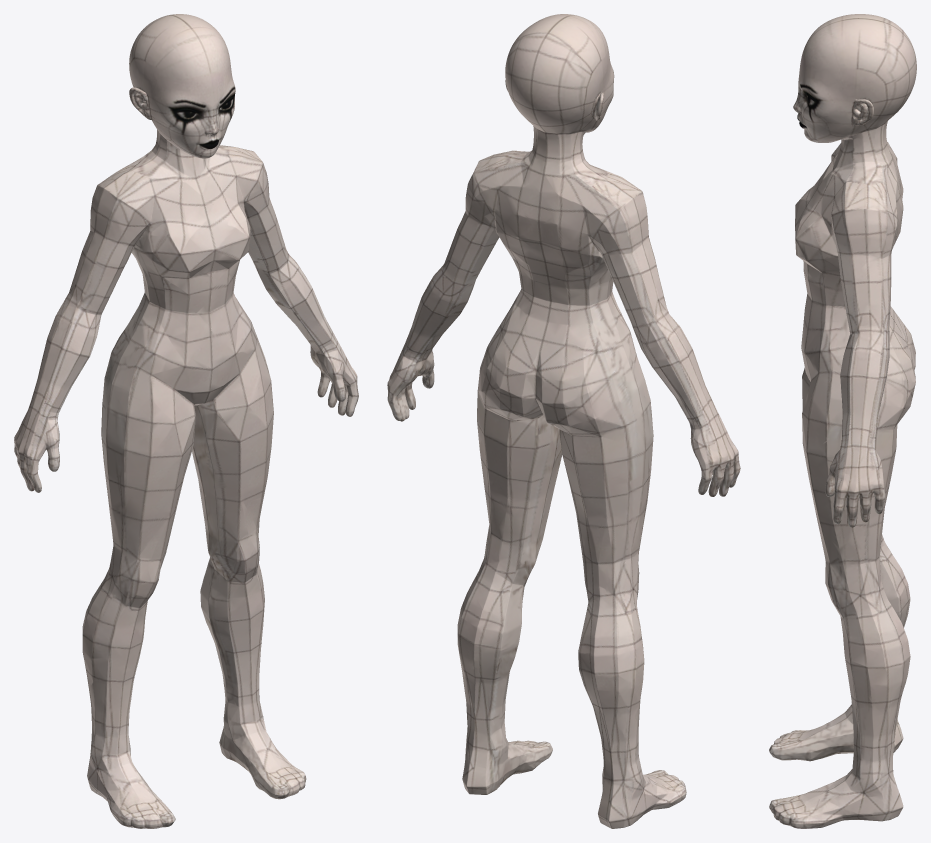
Rendered from feminino3-meshy.glb.
The picture shows the model from 3 angles, left to right: view 1: azimuth 30°, elevation 25°; view 2: azimuth 150°, elevation 25°; view 3: azimuth 270°, elevation 25°; orthographic projection. The views are drawn at different scales.
Bounding box in the file's own units: 0.8675 × 1.9 × 0.3312.
1 material, 1 textured.
